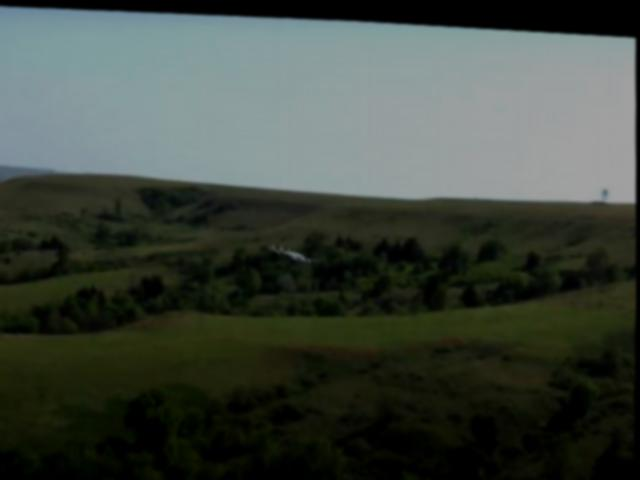iha: (268, 238, 321, 262)
